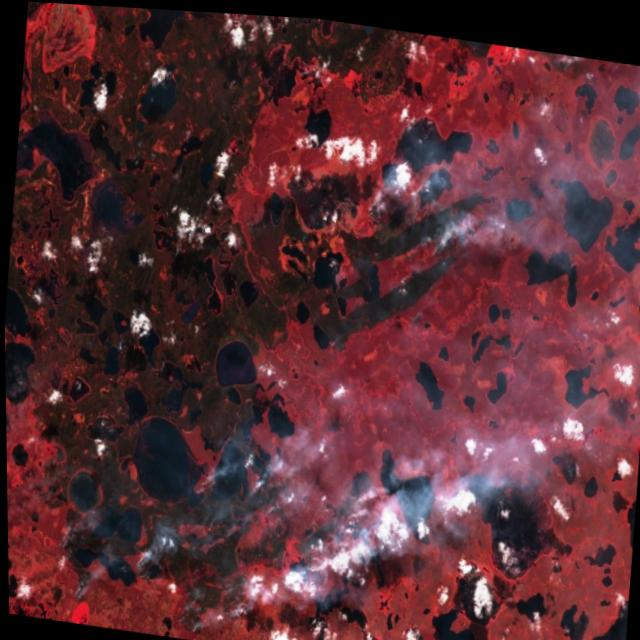fire: (30, 417, 378, 640), (335, 143, 494, 276), (531, 42, 583, 81)
